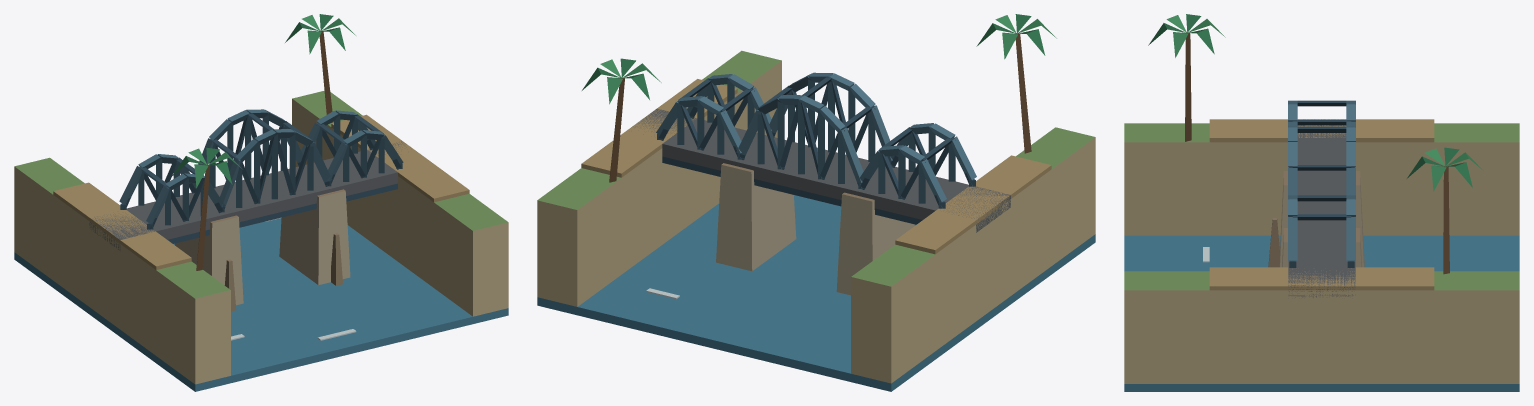
The model's file is pontFaidherbe.glb.
3 renders of one model, left to right at view 1: azimuth 30°, elevation 25°; view 2: azimuth 150°, elevation 25°; view 3: azimuth 270°, elevation 25°, orthographic. The views are drawn at different scales.
Parts seen in each view (by area): view 1: pontFaidherbe; view 2: pontFaidherbe; view 3: pontFaidherbe.
Part boxes in pixels (x1=…): pontFaidherbe: x1=14, y1=14, x2=508, y2=391; pontFaidherbe: x1=537, y1=14, x2=1095, y2=391; pontFaidherbe: x1=1124, y1=14, x2=1519, y2=391.
Bounding box in the file's own units: 1.76 × 1.1 × 1.76.
